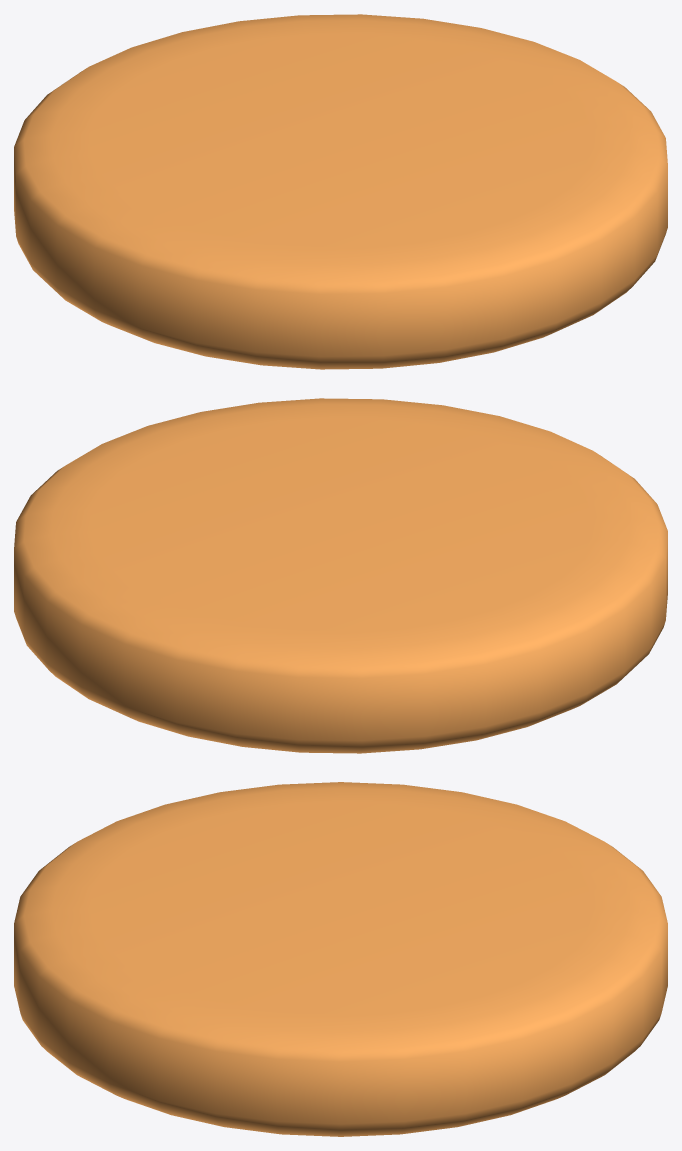
The model's file is PanAbajo.glb.
3 renders of one model, top to bottom at view 1: azimuth 30°, elevation 25°; view 2: azimuth 150°, elevation 25°; view 3: azimuth 270°, elevation 25°, orthographic.
Parts seen in each view (by area): view 1: Cylinder.007; view 2: Cylinder.007; view 3: Cylinder.007.
Boxes of the visible parts, left/top/right/bottom form: Cylinder.007: left=14, top=14, right=667, bottom=369; Cylinder.007: left=14, top=398, right=667, bottom=753; Cylinder.007: left=14, top=782, right=667, bottom=1136.
Bounding box in the file's own units: 7.94 × 1.8 × 7.94.
